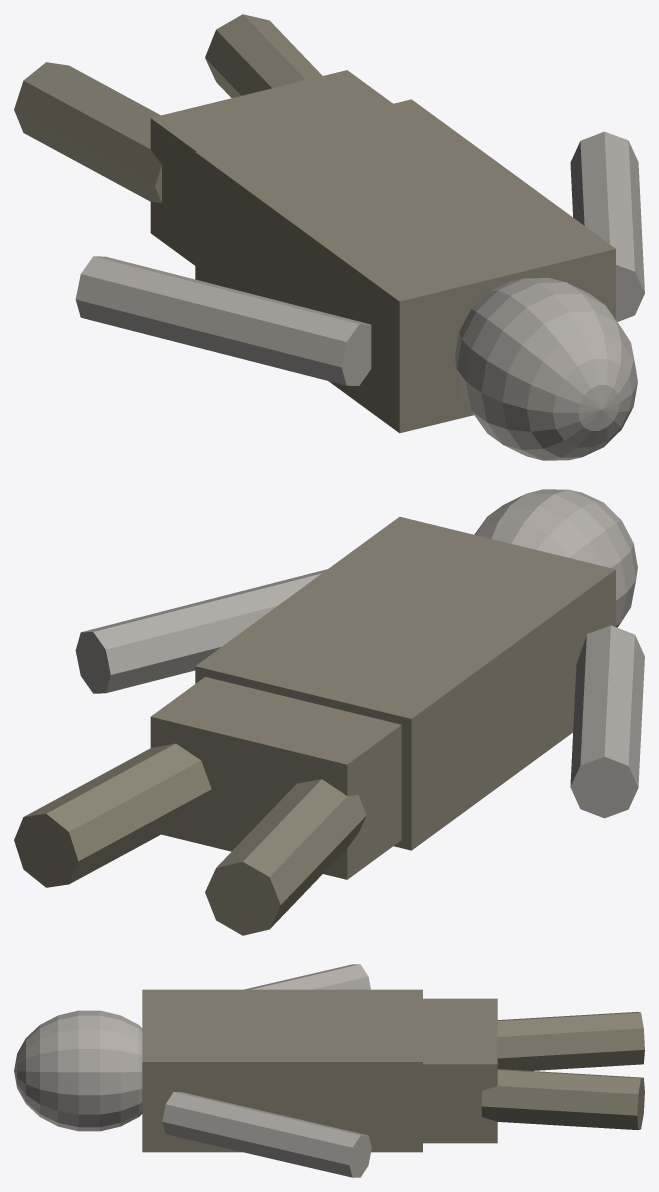
File: enemy_normal.glb
3 views of the same model, one above another, from view 1: azimuth 30°, elevation 25°; view 2: azimuth 150°, elevation 25°; view 3: azimuth 270°, elevation 25° (orthographic). The views are drawn at different scales.
Visible parts, largest first — view 1: world; view 2: world; view 3: world.
Part boxes in pixels (x1,y1,x2,y2): world: (14, 14, 644, 460); world: (14, 489, 644, 935); world: (14, 964, 644, 1177).
Size of the model in its own units: 1.43 by 0.392 by 2.02.
